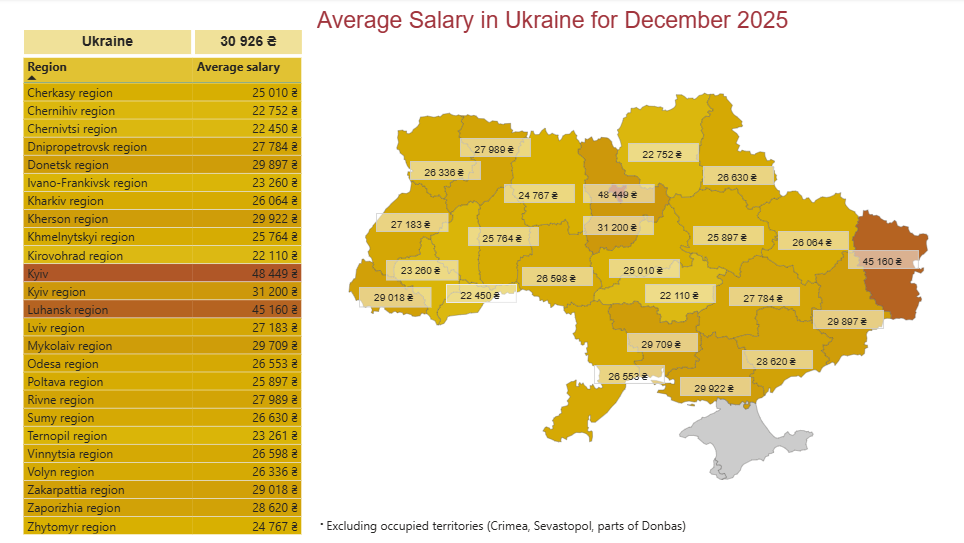

Layout of this report page (visuals, bound fields, positions):
{"tool":"powerbi","page":{"name":"December 2025","canvas":[1280,720],"ordinal":0},"visuals":[{"type":"shapeMap","title":"Average Salary in Ukraine for December 2025","fields":{"Value":["Sum(AN.Average salary)"],"Category":["AN.Region"]},"box":[415.8,12,864.8,708],"z":0},{"type":"tableEx","fields":{"Values":["AN.Region","Sum(AN.Average salary)"]},"box":[25.2,74.4,390.6,645.6],"z":1000},{"type":"card","fields":{"Values":["_calc.Kyiv  lbl"]},"box":[774.9,247.7,95,24.8],"z":2000},{"type":"card","fields":{"Values":["Min(_Average_UA.Стовпець 2)"]},"box":[258.7,42.5,141.8,31.7],"z":3000},{"type":"card","fields":{"Values":["Min(_Average_UA.Стовпець)"]},"box":[31.6,42.5,221.6,31.7],"z":4000},{"type":"card","fields":{"Values":["_calc.Luhansk region  lbl"]},"box":[1126.5,334.8,94.3,25.2],"z":5000},{"type":"card","fields":{"Values":["_calc.Kharkiv region  lbl"]},"box":[1033.5,309.5,94.3,25.2],"z":6000},{"type":"card","fields":{"Values":["_calc.Donetsk region lbl"]},"box":[1080,414.5,94.3,25.2],"z":7000},{"type":"card","fields":{"Values":["_calc.Zaporizhia region  lbl"]},"box":[985.7,467.6,94.3,25.2],"z":8000},{"type":"card","fields":{"Values":["_calc.Kherson region  lbl"]},"box":[903.3,503.5,94.3,25.2],"z":9000},{"type":"card","fields":{"Values":["_calc.Dnipropetrovsk region lbl"]},"box":[968.4,383.9,94.3,25.2],"z":10000},{"type":"card","fields":{"Values":["_calc.Poltava region  lbl"]},"box":[920.6,302.9,94.3,25.2],"z":11000},{"type":"card","fields":{"Values":["_calc.Sumy region  lbl"]},"box":[933.9,223.2,94.3,25.2],"z":12000},{"type":"card","fields":{"Values":["_calc.Mykolaiv region  lbl"]},"box":[832.9,445,94.3,25.2],"z":13000},{"type":"card","fields":{"Values":["_calc.Odesa region  lbl"]},"box":[789.1,480.9,94.3,25.2],"z":14000},{"type":"card","fields":{"Values":["_calc.Kirovohrad region  lbl"]},"box":[856.8,379.9,94.3,25.2],"z":15000},{"type":"card","fields":{"Values":["_calc.Cherkasy region  lbl"]},"box":[809.3,328.9,93.6,24.8],"z":16000},{"type":"card","fields":{"Values":["_calc.Vinnytsia region lbl"]},"box":[693.4,357.3,94.3,25.2],"z":17000},{"type":"card","fields":{"Values":["_calc.Chernihiv region  lbl"]},"box":[834.2,192.6,94.3,25.2],"z":18000},{"type":"card","fields":{"Values":["_calc.Zhytomyr region lbl"]},"box":[669.5,247.1,94.3,25.2],"z":19000},{"type":"card","fields":{"Values":["_calc.Khmelnytskyi region  lbl"]},"box":[621.7,304.2,94.3,25.2],"z":20000},{"type":"card","fields":{"Values":["_calc.Chernivtsi region  lbl"]},"box":[592.5,379.9,94.3,25.2],"z":21000},{"type":"card","fields":{"Values":["_calc.Rivne region  lbl"]},"box":[611.1,186,94.3,25.2],"z":22000},{"type":"card","fields":{"Values":["_calc.Volyn region lbl"]},"box":[544.6,216.5,94.3,25.2],"z":23000},{"type":"card","fields":{"Values":["_calc.Kyiv region  lbl"]},"box":[774.5,289.6,94.3,25.2],"z":24000},{"type":"card","fields":{"Values":["_calc.Lviv region  lbl"]},"box":[499.5,285.6,95.6,25.2],"z":25000},{"type":"card","fields":{"Values":["_calc.Ivano-Frankivsk region  lbl"]},"box":[512.8,348,95.6,26.6],"z":26000},{"type":"card","fields":{"Values":["_calc.Zakarpattia region  lbl"]},"box":[476.9,383.9,95.6,26.6],"z":27000},{"type":"textbox","box":[410.5,684.1,510.1,35.9],"z":28000}]}

Visuals, with their boxes in screenshot pixels (x1, y1, x2, y2), scaled from the page's 1280x720 canvas onto the 964x543 screenshot:
"Average Salary in Ukraine for December 2025" shapeMap: [left=313, top=9, right=963, bottom=542]
tableEx - AN.Region x Sum(AN.Average salary): [left=19, top=56, right=313, bottom=542]
card - _calc.Kyiv  lbl: [left=584, top=187, right=655, bottom=206]
card - Min(_Average_UA.Стовпець 2): [left=195, top=32, right=302, bottom=56]
card - Min(_Average_UA.Стовпець): [left=24, top=32, right=191, bottom=56]
card - _calc.Luhansk region  lbl: [left=848, top=252, right=919, bottom=272]
card - _calc.Kharkiv region  lbl: [left=778, top=233, right=849, bottom=252]
card - _calc.Donetsk region lbl: [left=813, top=313, right=884, bottom=332]
card - _calc.Zaporizhia region  lbl: [left=742, top=353, right=813, bottom=372]
card - _calc.Kherson region  lbl: [left=680, top=380, right=751, bottom=399]
card - _calc.Dnipropetrovsk region lbl: [left=729, top=290, right=800, bottom=309]
card - _calc.Poltava region  lbl: [left=693, top=228, right=764, bottom=247]
card - _calc.Sumy region  lbl: [left=703, top=168, right=774, bottom=187]
card - _calc.Mykolaiv region  lbl: [left=627, top=336, right=698, bottom=355]
card - _calc.Odesa region  lbl: [left=594, top=363, right=665, bottom=382]
card - _calc.Kirovohrad region  lbl: [left=645, top=287, right=716, bottom=306]
card - _calc.Cherkasy region  lbl: [left=610, top=248, right=680, bottom=267]
card - _calc.Vinnytsia region lbl: [left=522, top=269, right=593, bottom=288]
card - _calc.Chernihiv region  lbl: [left=628, top=145, right=699, bottom=164]
card - _calc.Zhytomyr region lbl: [left=504, top=186, right=575, bottom=205]
card - _calc.Khmelnytskyi region  lbl: [left=468, top=229, right=539, bottom=248]
card - _calc.Chernivtsi region  lbl: [left=446, top=287, right=517, bottom=306]
card - _calc.Rivne region  lbl: [left=460, top=140, right=531, bottom=159]
card - _calc.Volyn region lbl: [left=410, top=163, right=481, bottom=182]
card - _calc.Kyiv region  lbl: [left=583, top=218, right=654, bottom=237]
card - _calc.Lviv region  lbl: [left=376, top=215, right=448, bottom=234]
card - _calc.Ivano-Frankivsk region  lbl: [left=386, top=262, right=458, bottom=283]
card - _calc.Zakarpattia region  lbl: [left=359, top=290, right=431, bottom=310]
textbox: [left=309, top=516, right=693, bottom=542]
